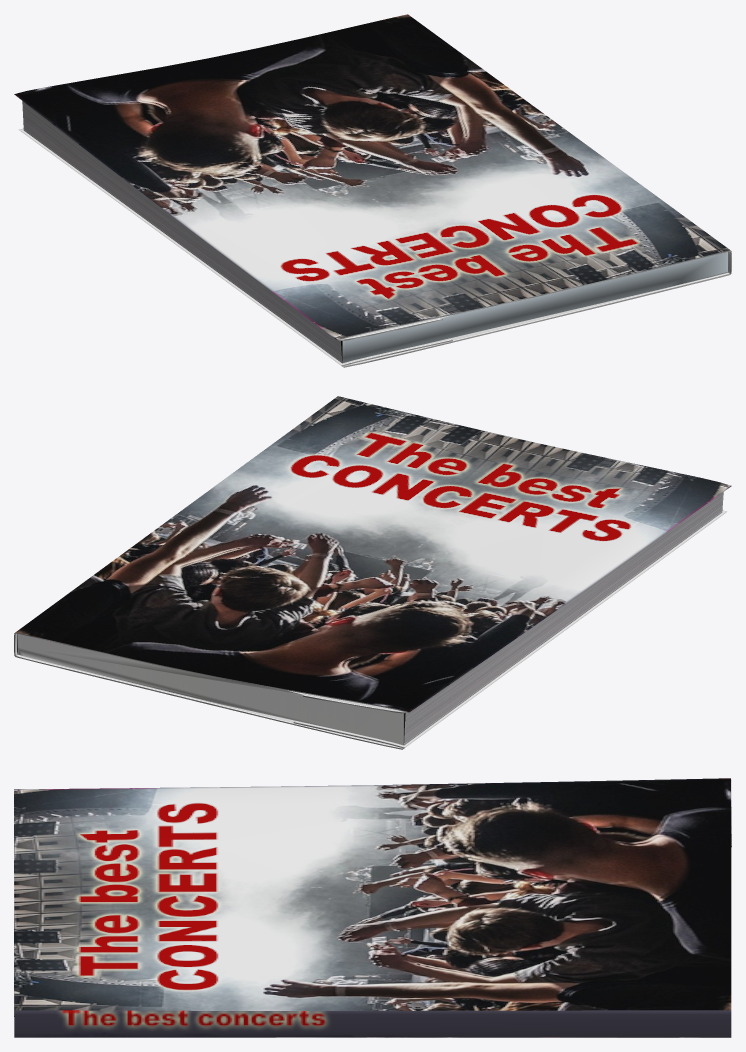
Rendered from Book 2.FBX.
3 views of the same model, one above another, from view 1: azimuth 30°, elevation 25°; view 2: azimuth 150°, elevation 25°; view 3: azimuth 270°, elevation 25° (orthographic). The views are drawn at different scales.
Visible parts, largest first — view 1: Book 2; view 2: Book 2; view 3: Book 2.
Boxes of the visible parts, box(x1,y1,x2,y2) form: Book 2: box(14, 14, 731, 367); Book 2: box(14, 396, 731, 749); Book 2: box(14, 778, 731, 1037).
Bounding box in the file's own units: 17.46 × 1.75 × 24.67.
2 materials, 2 textured.
